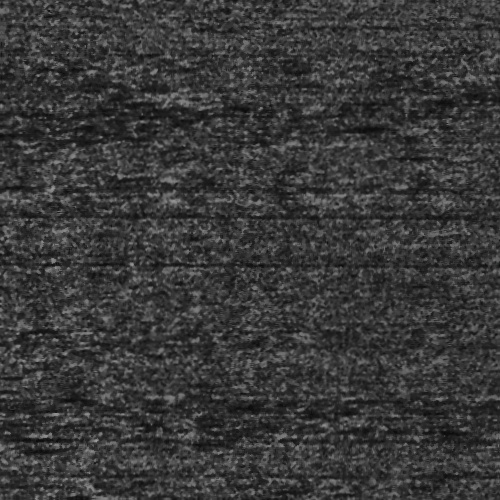object: (380, 122, 443, 129), (218, 496, 281, 500)
shadow: (352, 122, 411, 129), (187, 496, 249, 500), (477, 89, 500, 98)
